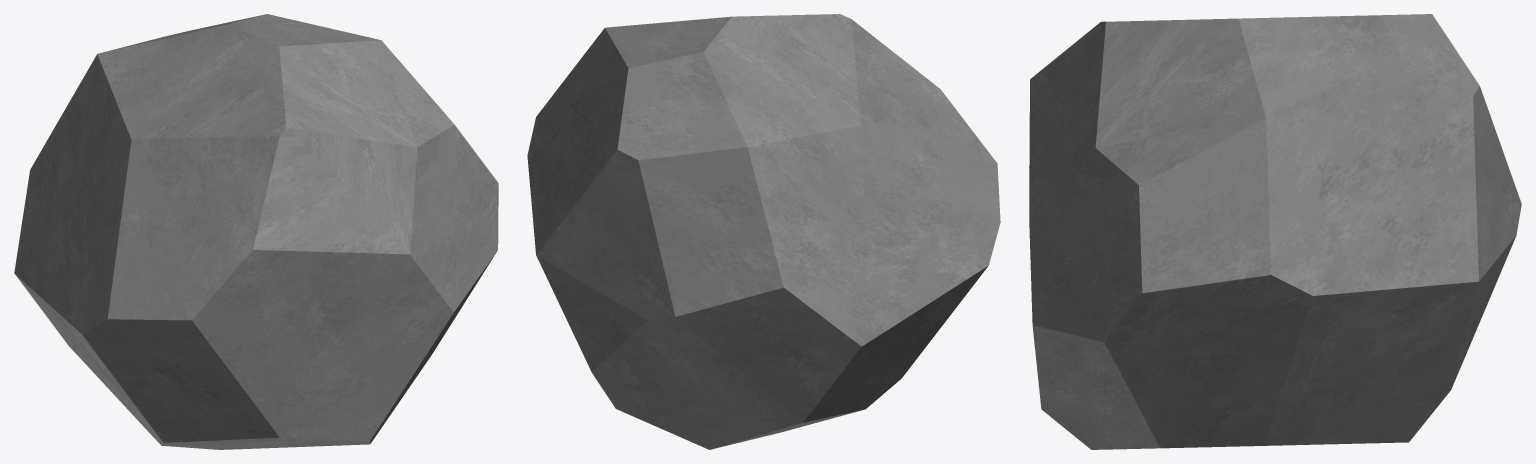
File: Rock_3.fbx
3 views of the same model, side by side, from view 1: azimuth 30°, elevation 25°; view 2: azimuth 150°, elevation 25°; view 3: azimuth 270°, elevation 25° (orthographic). The views are drawn at different scales.
Parts seen in each view (by area): view 1: Rock.009; view 2: Rock.009; view 3: Rock.009.
Part boxes in pixels (x1=…): Rock.009: x1=14, y1=14, x2=498, y2=449; Rock.009: x1=527, y1=14, x2=1000, y2=449; Rock.009: x1=1029, y1=14, x2=1521, y2=449.
Size of the model in its own units: 145 by 135 by 132.
